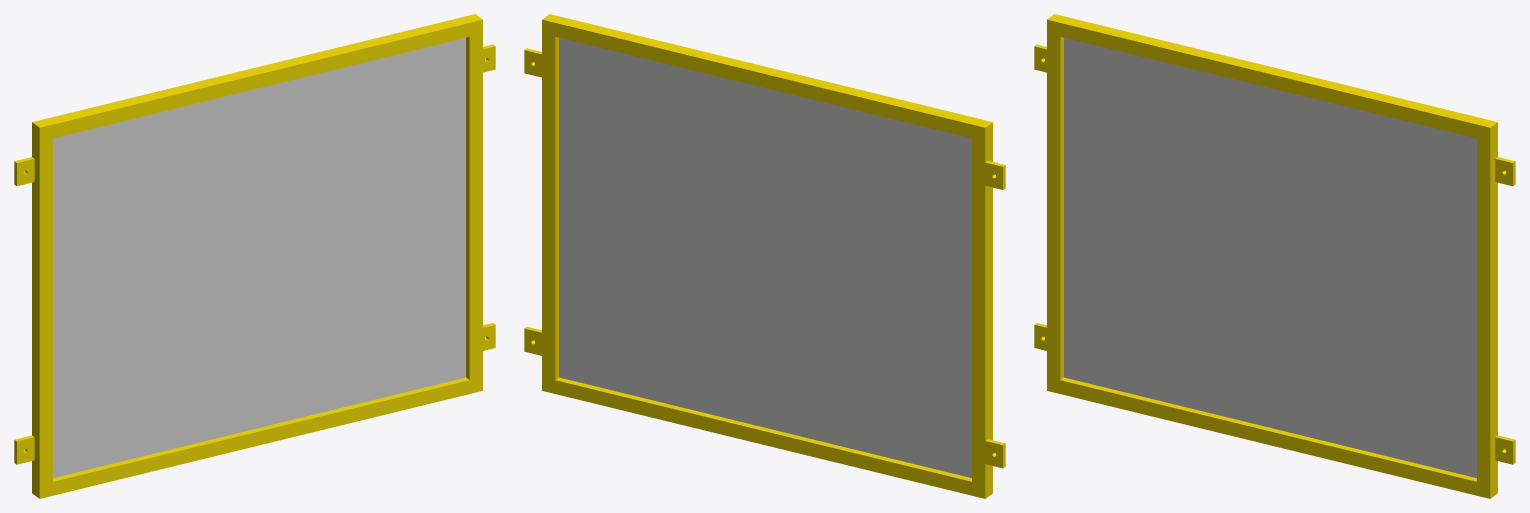
Rendered from guard-panel.glb.
The picture shows the model from 3 angles, left to right: view 1: azimuth 30°, elevation 25°; view 2: azimuth 150°, elevation 25°; view 3: azimuth 330°, elevation 25°; orthographic projection.
Visible parts, largest first — view 1: body; view 2: body; view 3: body.
Boxes of the visible parts, box(x1,y1,x2,y2) form: body: box(14, 14, 495, 498); body: box(524, 14, 1005, 498); body: box(1034, 14, 1515, 498).
Size of what is drawn, in the model's own units: 1.08 by 0.8 by 0.03.
